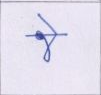i_matra: (42, 18, 57, 62)
